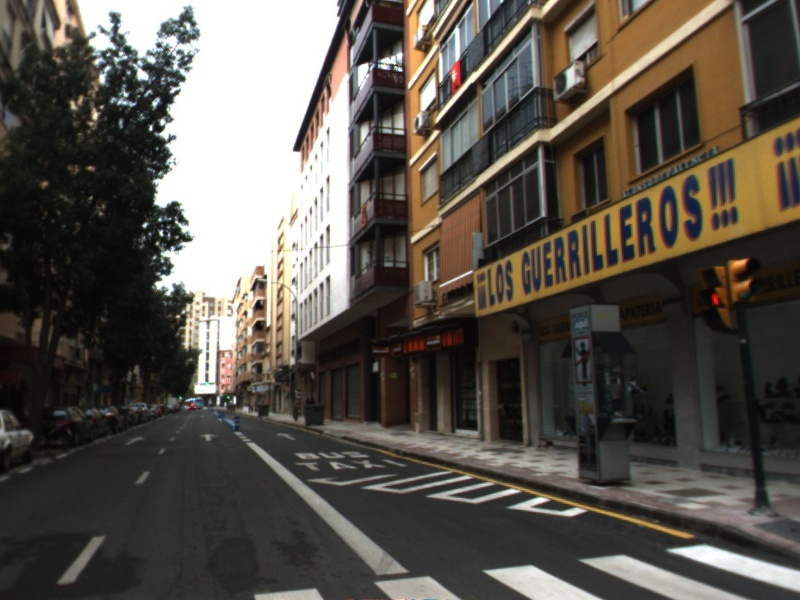STRAIGHT: (273, 430, 298, 443), (123, 434, 147, 447), (197, 431, 220, 443)
